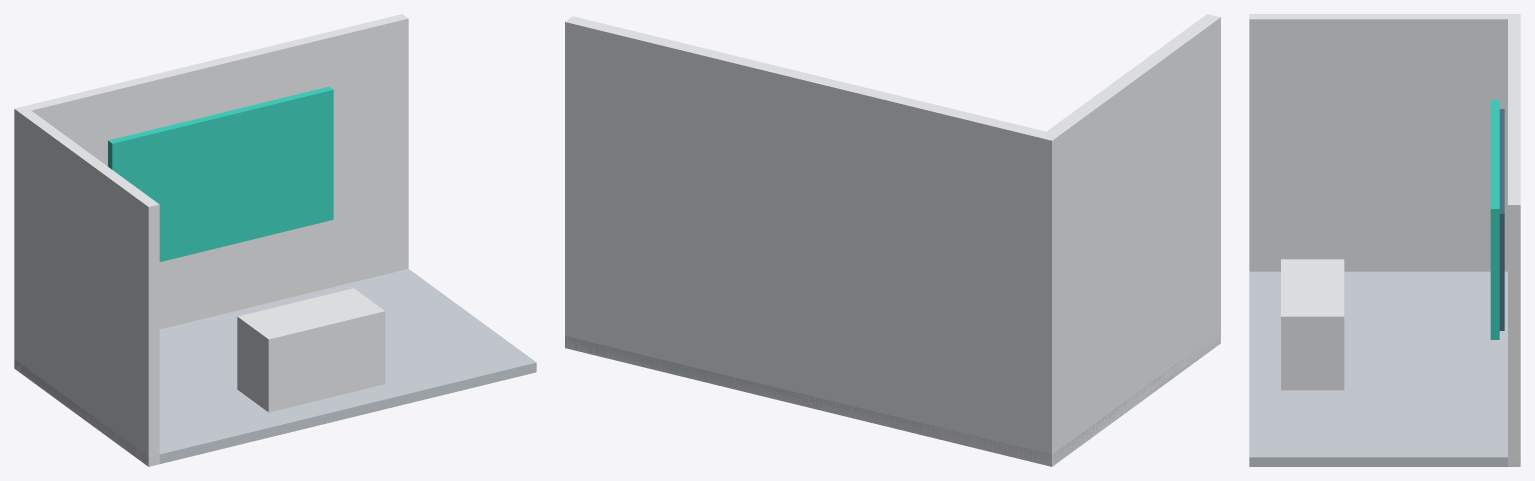
3 views of the same model, side by side, from view 1: azimuth 30°, elevation 25°; view 2: azimuth 150°, elevation 25°; view 3: azimuth 270°, elevation 25° (orthographic). The views are drawn at different scales.
Parts seen in each view (by area): view 1: Exhibition Booth Concept; view 2: Exhibition Booth Concept; view 3: Exhibition Booth Concept.
Boxes of the visible parts, x1=… form: Exhibition Booth Concept: x1=14, y1=14, x2=536, y2=466; Exhibition Booth Concept: x1=565, y1=14, x2=1220, y2=466; Exhibition Booth Concept: x1=1249, y1=14, x2=1520, y2=466.
Bounding box in the file's own units: 5 × 3.2 × 3.
